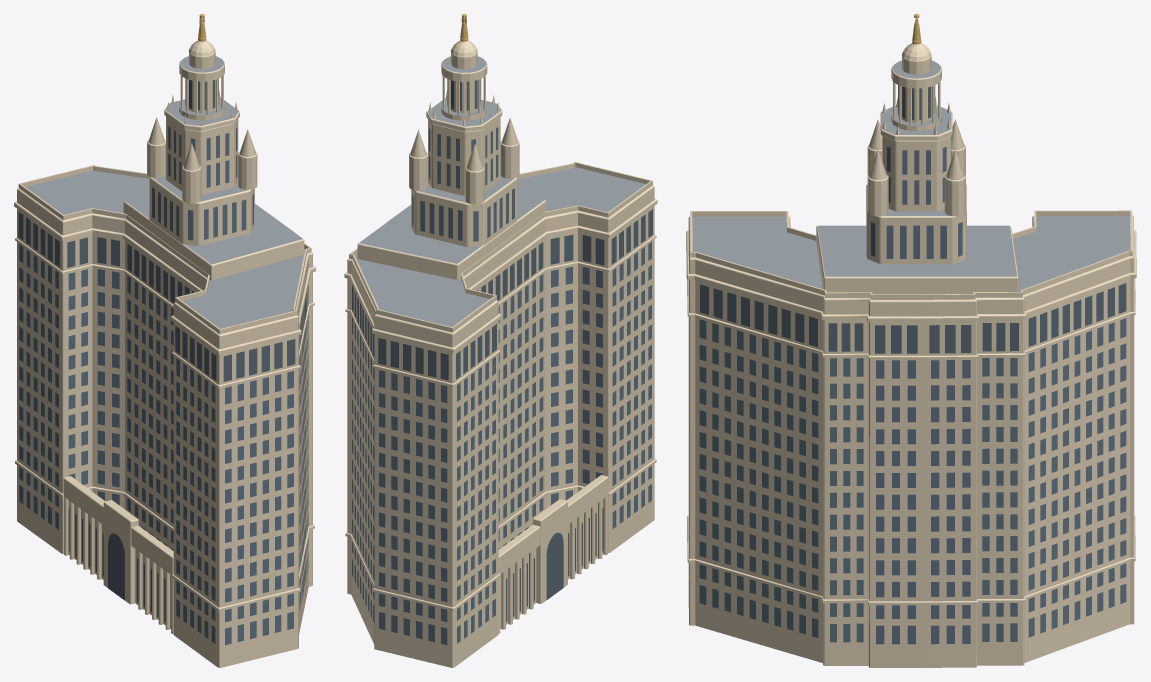
Rendered from nyc-municipal-building.glb.
The picture shows the model from 3 angles, left to right: view 1: azimuth 30°, elevation 25°; view 2: azimuth 150°, elevation 25°; view 3: azimuth 270°, elevation 25°; orthographic projection. The views are drawn at different scales.
Visible parts, largest first — view 1: Manhattan Municipal Building; view 2: Manhattan Municipal Building; view 3: Manhattan Municipal Building.
Part boxes in pixels (x1=…): Manhattan Municipal Building: x1=14, y1=14, x2=315, y2=667; Manhattan Municipal Building: x1=344, y1=14, x2=657, y2=667; Manhattan Municipal Building: x1=686, y1=14, x2=1136, y2=667.
Size of the model in its own units: 55.6 by 180 by 120.
